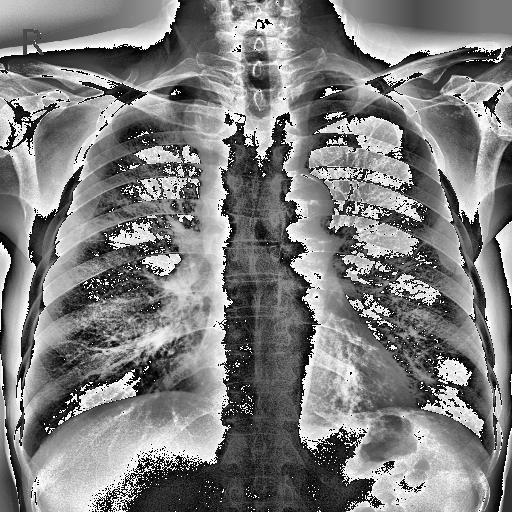0- Aortic enlargement: (264, 172, 336, 242), (270, 168, 332, 226)
11- Pleural thickening: (296, 70, 356, 84)
13- Pulmonary fibrosis: (137, 269, 203, 302)
2- Calcification: (300, 174, 330, 192)
7- Lung Opacity: (180, 94, 231, 154)
8- Nodule-Mass: (180, 94, 231, 154), (180, 99, 233, 154)
9- Other lesion: (434, 99, 479, 119)
